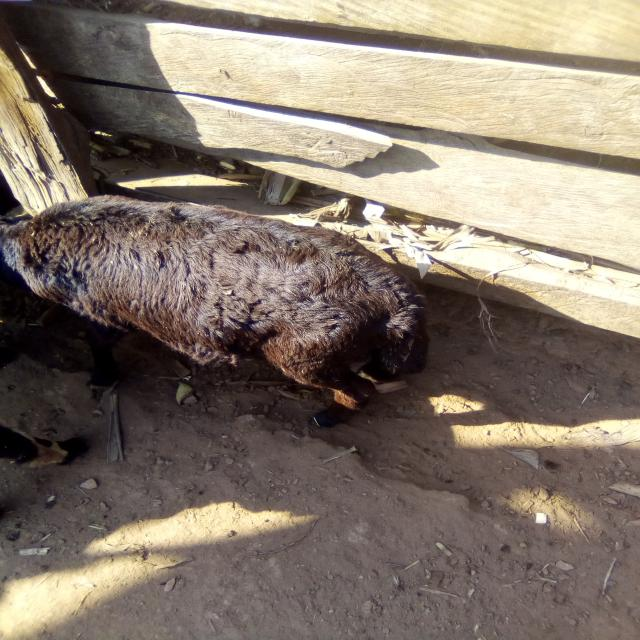sheep: (0, 180, 454, 462)
